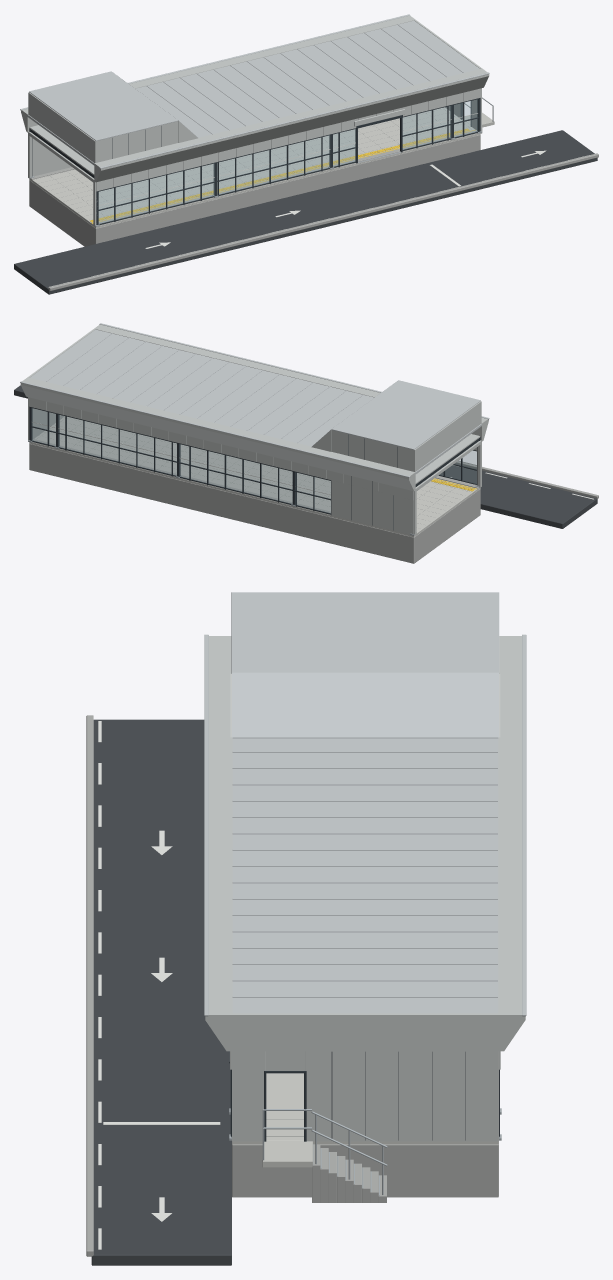
The model's file is 01_Station_Static.fbx.
The picture shows the model from 3 angles, top to bottom: view 1: azimuth 30°, elevation 25°; view 2: azimuth 150°, elevation 25°; view 3: azimuth 270°, elevation 25°; orthographic projection. The views are drawn at different scales.
Parts seen in each view (by area): view 1: Road_01_Deck_ASSUMED_EL23_85, Roof_Main_Deck, Platform_Finish_Slab, Platform_Substructure, Roof_South_Folded_Fascia, Roof_High_Cap, Road_Outer_Kerb, Roof_North_Folded_Fascia, Roof_High_Enclosure_-3.96, Roof_High_End, Platform_Edge_Coping_-3.82, Roof_South_Edge_Cap (+23 smaller); view 2: Roof_Main_Deck, Platform_Substructure, Platform_Finish_Slab, Roof_North_Folded_Fascia, Roof_High_Cap, Road_01_Deck_ASSUMED_EL23_85, North_Service_Wall, Roof_South_Folded_Fascia, Roof_High_Enclosure_3.96, Roof_High_End, Roof_North_Edge_Cap, Platform_Edge_Coping_3.82 (+23 smaller); view 3: Roof_Main_Deck, Road_01_Deck_ASSUMED_EL23_85, Roof_High_Cap, Roof_High_Transition, End_Wall_Main, Roof_Free_End_Fascia, Platform_Substructure, Roof_South_Folded_Fascia, Roof_North_Folded_Fascia, Road_Outer_Kerb, Platform_Finish_Slab, End_Wall_Pier (+3 smaller).
Part boxes in pixels (x1,y1,x2,y2): Road_01_Deck_ASSUMED_EL23_85: (14, 130, 597, 294); Roof_Main_Deck: (27, 20, 479, 165); Platform_Finish_Slab: (29, 107, 480, 228); Platform_Substructure: (29, 134, 480, 246); Roof_South_Folded_Fascia: (94, 69, 487, 182); Roof_High_Cap: (29, 71, 178, 141); Road_Outer_Kerb: (48, 153, 598, 290); Roof_North_Folded_Fascia: (21, 16, 414, 132); Roof_High_Enclosure_-3.96: (95, 121, 178, 162); Roof_High_End: (28, 92, 95, 162); Platform_Edge_Coping_-3.82: (98, 130, 476, 225); Roof_South_Edge_Cap: (99, 72, 489, 168); Roof_Main_Deck: (30, 329, 481, 474); Platform_Substructure: (29, 443, 480, 563); Platform_Finish_Slab: (29, 416, 480, 537); Roof_North_Folded_Fascia: (21, 377, 415, 490); Roof_High_Cap: (331, 380, 480, 449); Road_01_Deck_ASSUMED_EL23_85: (14, 385, 597, 528); North_Service_Wall: (331, 478, 413, 534); Roof_South_Folded_Fascia: (95, 324, 488, 441); Roof_High_Enclosure_3.96: (331, 430, 413, 471); Roof_High_End: (414, 401, 481, 471); Roof_North_Edge_Cap: (20, 381, 410, 477); Platform_Edge_Coping_3.82: (33, 439, 416, 532); Roof_Main_Deck: (232, 738, 498, 1013); Road_01_Deck_ASSUMED_EL23_85: (91, 719, 231, 1265); Roof_High_Cap: (231, 592, 499, 673); Roof_High_Transition: (232, 672, 498, 738); End_Wall_Main: (305, 1051, 498, 1141); Roof_Free_End_Fascia: (205, 1013, 525, 1051); Platform_Substructure: (232, 1144, 498, 1197); Roof_South_Folded_Fascia: (209, 636, 232, 1014); Roof_North_Folded_Fascia: (498, 636, 521, 1013); Road_Outer_Kerb: (86, 715, 93, 1256); Platform_Finish_Slab: (232, 1073, 498, 1144); End_Wall_Pier: (232, 1051, 265, 1141).
Bounding box in the file's own units: 38 × 7.6 × 13.19.
